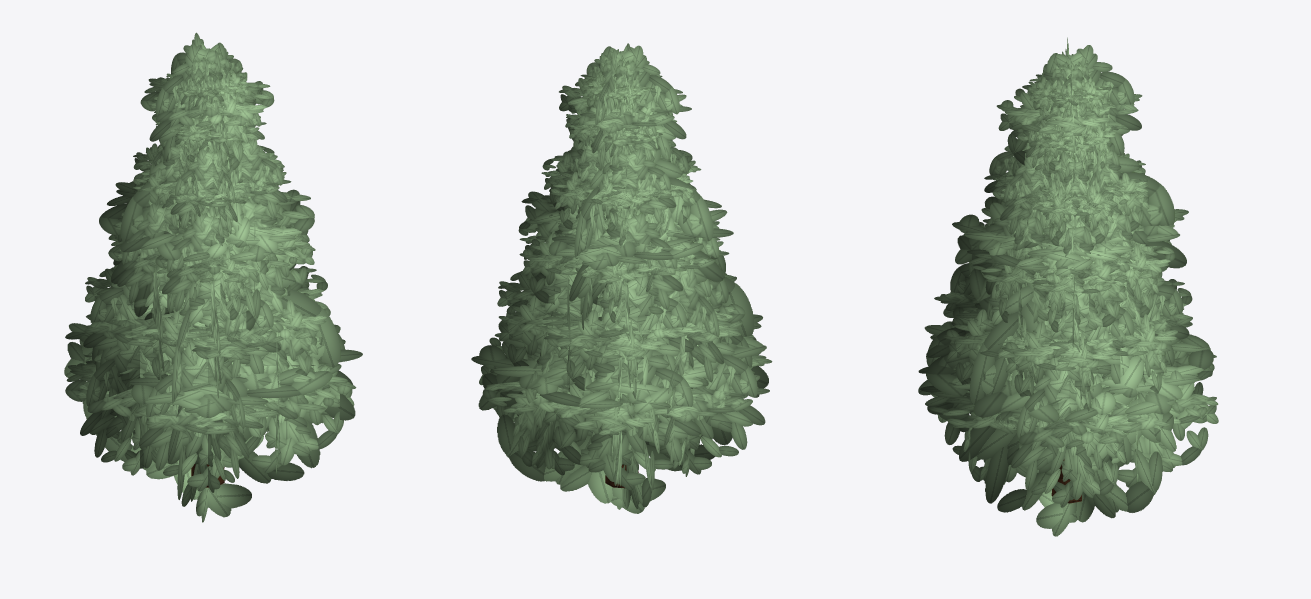
File: flora_fir.glb
3 renders of one model, left to right at view 1: azimuth 30°, elevation 25°; view 2: azimuth 150°, elevation 25°; view 3: azimuth 270°, elevation 25°, orthographic. The views are drawn at different scales.
Parts seen in each view (by area): view 1: Crown, CrownFar; view 2: Crown, CrownFar; view 3: Crown, CrownFar.
Boxes of the visible parts, x1,y1,x2,y2 form: Crown: [65, 48, 356, 492]; CrownFar: [64, 32, 362, 522]; Crown: [479, 53, 772, 490]; CrownFar: [471, 43, 768, 513]; Crown: [918, 51, 1218, 507]; CrownFar: [924, 37, 1213, 536].
Size of the model in its own units: 6.15 by 7.32 by 6.15.
Materials: 2 (2 with a texture image).
